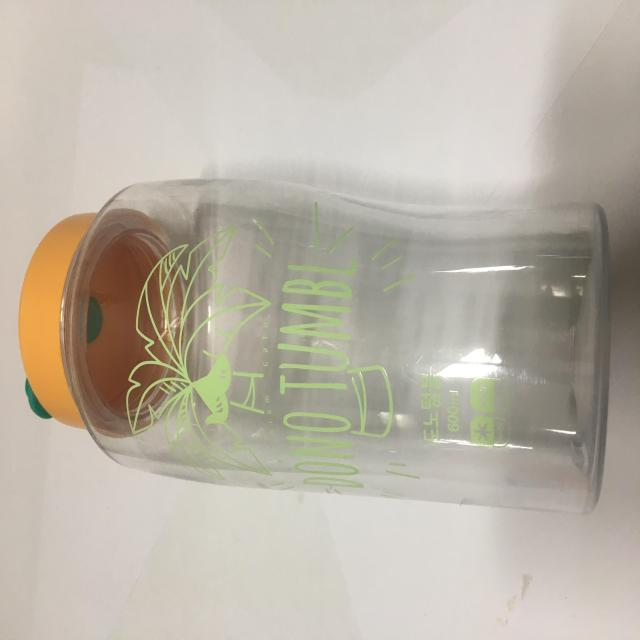bottle: (16, 172, 617, 512)
